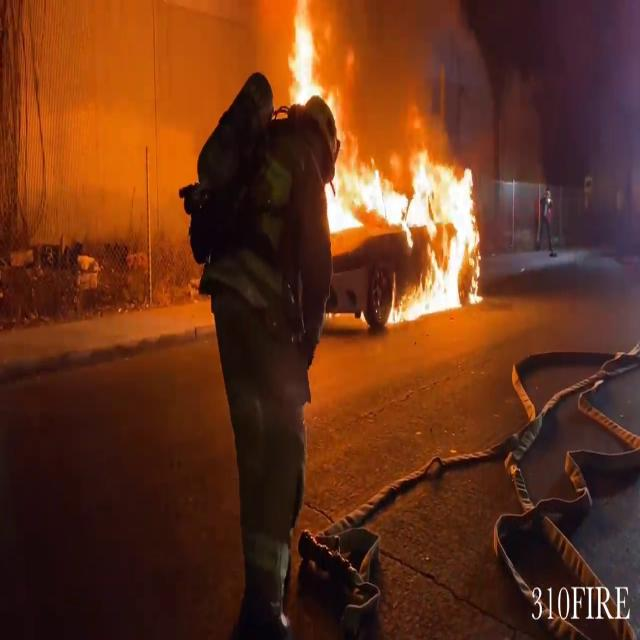Fire: (319, 129, 491, 322), (283, 2, 327, 116)
